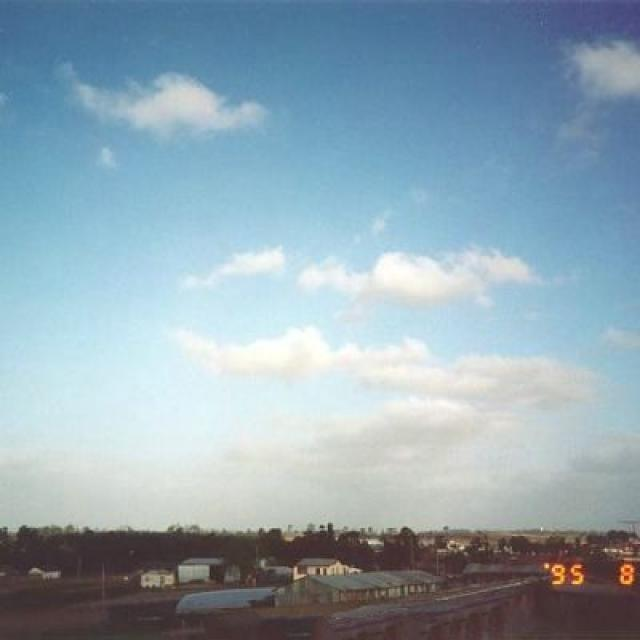St: (177, 246, 556, 333)
